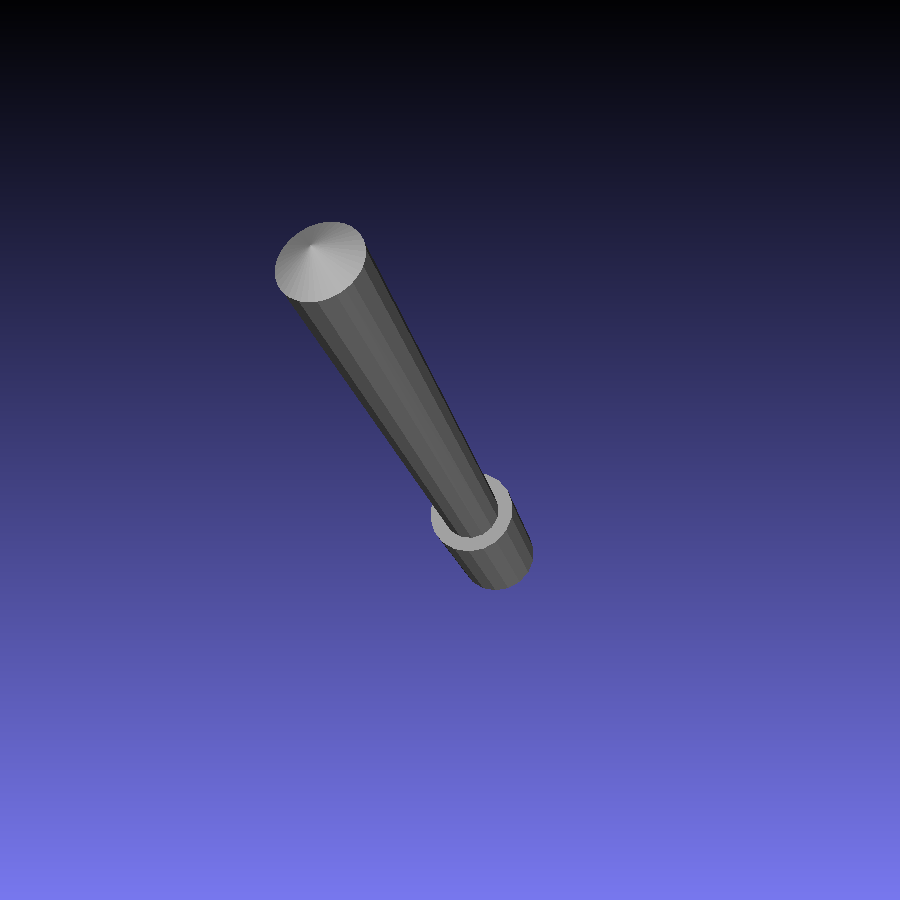cargo_g: (274, 221, 538, 592)
